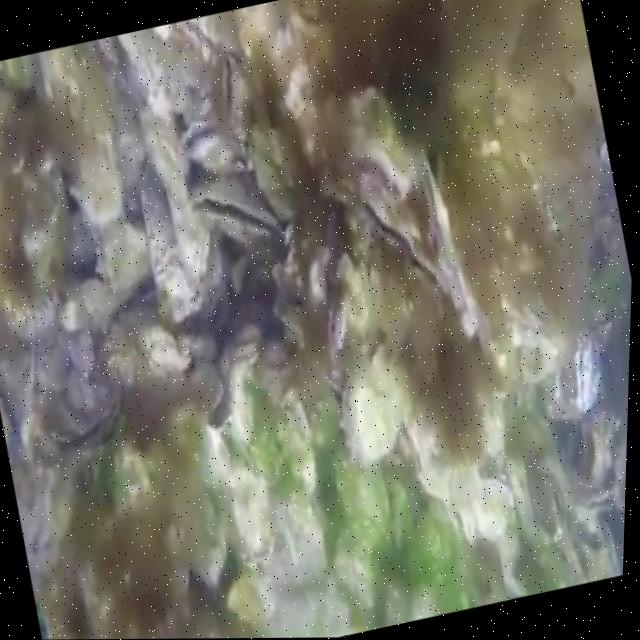Oyster-Closed: (319, 168, 440, 296), (141, 123, 214, 280), (142, 159, 203, 328), (338, 372, 411, 469), (420, 158, 459, 307), (173, 9, 242, 58), (528, 472, 568, 545), (571, 322, 602, 413), (222, 54, 250, 148), (327, 297, 346, 355), (226, 341, 258, 370), (97, 36, 119, 70)
Oyster-Indeterminate: (237, 494, 327, 594), (159, 401, 231, 488), (120, 26, 189, 112), (333, 446, 390, 541), (74, 136, 123, 231), (277, 393, 315, 490), (229, 469, 273, 551), (226, 570, 276, 638), (100, 224, 149, 293), (78, 278, 132, 327), (474, 480, 515, 540)
Oyster-Open: (188, 176, 282, 248), (34, 377, 120, 453), (182, 118, 243, 181), (449, 456, 483, 547), (185, 359, 229, 427), (577, 424, 612, 485), (575, 485, 612, 513)
